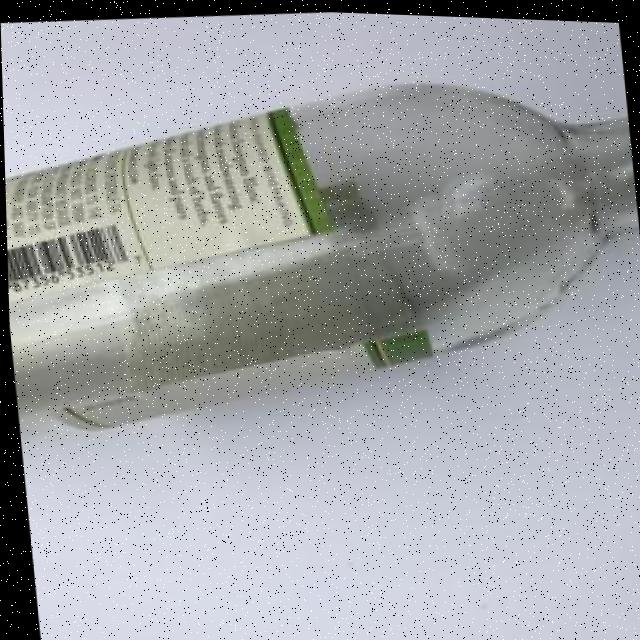glass: (1, 43, 640, 472)
